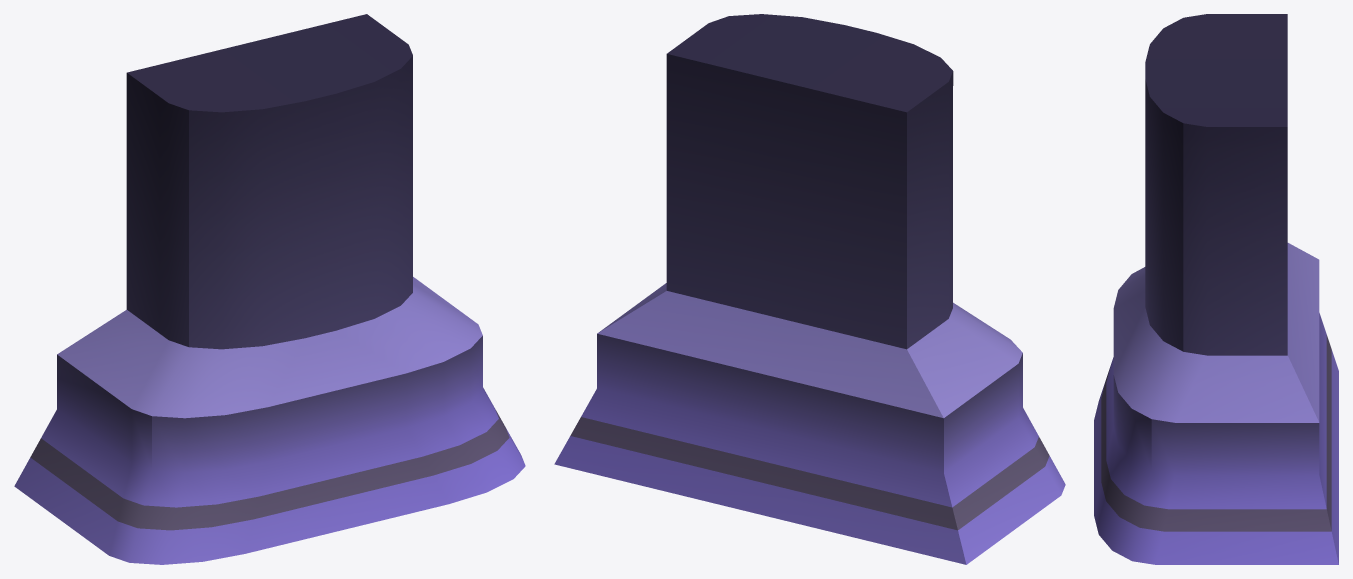
The model's file is Ventilation.fbx.
3 renders of one model, left to right at view 1: azimuth 30°, elevation 25°; view 2: azimuth 150°, elevation 25°; view 3: azimuth 270°, elevation 25°, orthographic. The views are drawn at different scales.
Visible parts, largest first — view 1: ventilation; view 2: ventilation; view 3: ventilation.
Boxes of the visible parts, x1,y1,x2,y2 form: ventilation: [14, 14, 525, 564]; ventilation: [554, 14, 1065, 564]; ventilation: [1094, 14, 1338, 564].
Size of the model in its own units: 1.23 by 1.17 by 0.6537.
